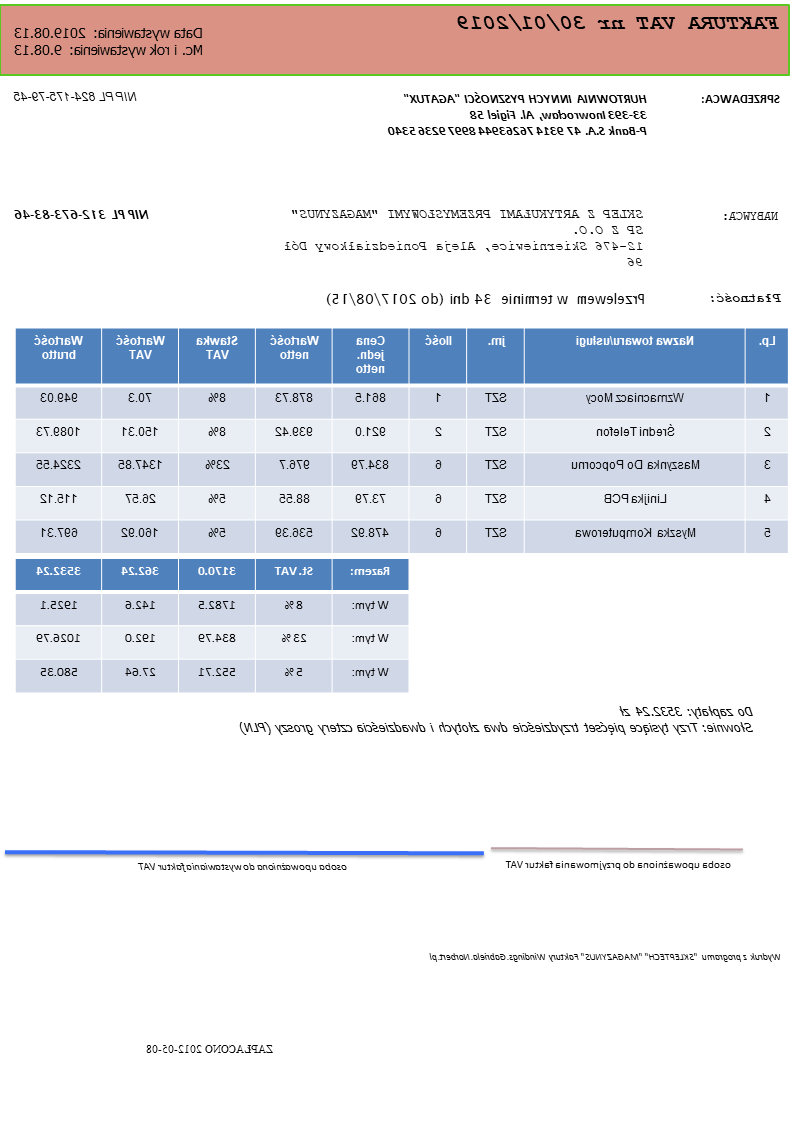Table: (14, 326, 790, 555), (14, 557, 410, 693), (238, 702, 756, 738)
TextBox: (281, 205, 648, 270), (386, 91, 650, 139), (456, 10, 782, 35), (12, 23, 207, 58), (325, 290, 648, 308), (427, 949, 784, 965), (504, 858, 735, 872), (136, 860, 350, 874), (12, 206, 153, 223), (12, 88, 140, 105), (145, 1041, 275, 1055), (700, 91, 783, 107), (709, 289, 783, 306), (721, 208, 782, 222)
